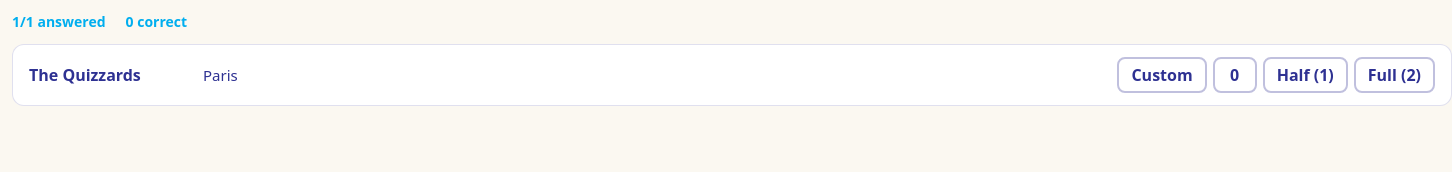
Test: AnswersPanel › custom points › keeps the custom input hidden until Custom is clicked
What coordinates should you click on to do the following:
click the button with aria-label "grade the quizzards custom points"
I would click on:
 (1162, 75)
Its box is [1117,57,1207,93].
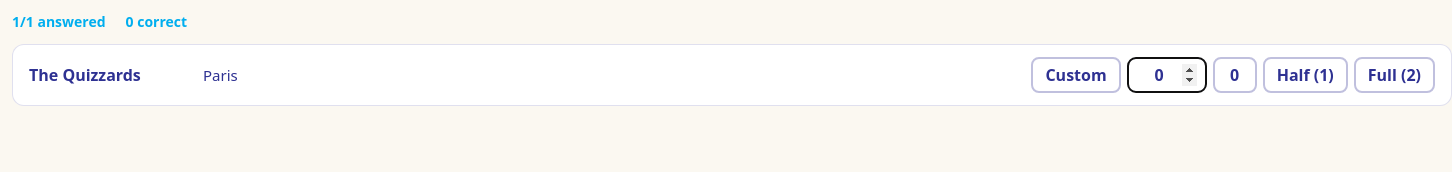
Expected: the number field named "custom points for the quizzards" is shown, [1127,57,1207,93]
